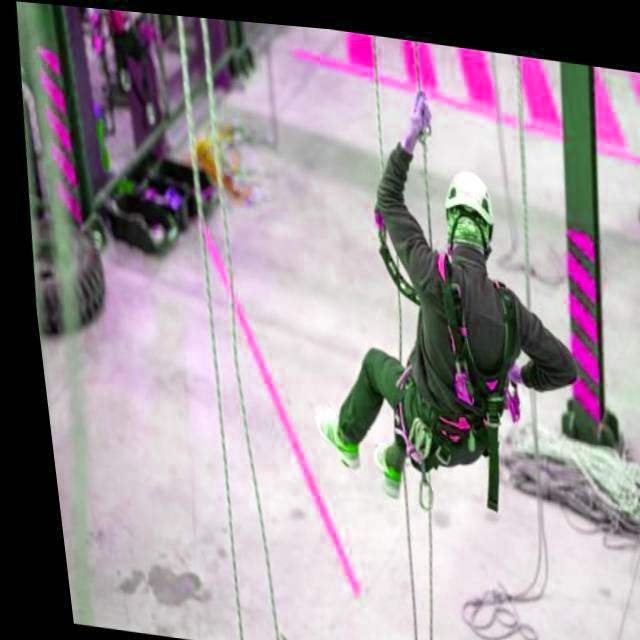safety belt: (402, 248, 522, 486)
